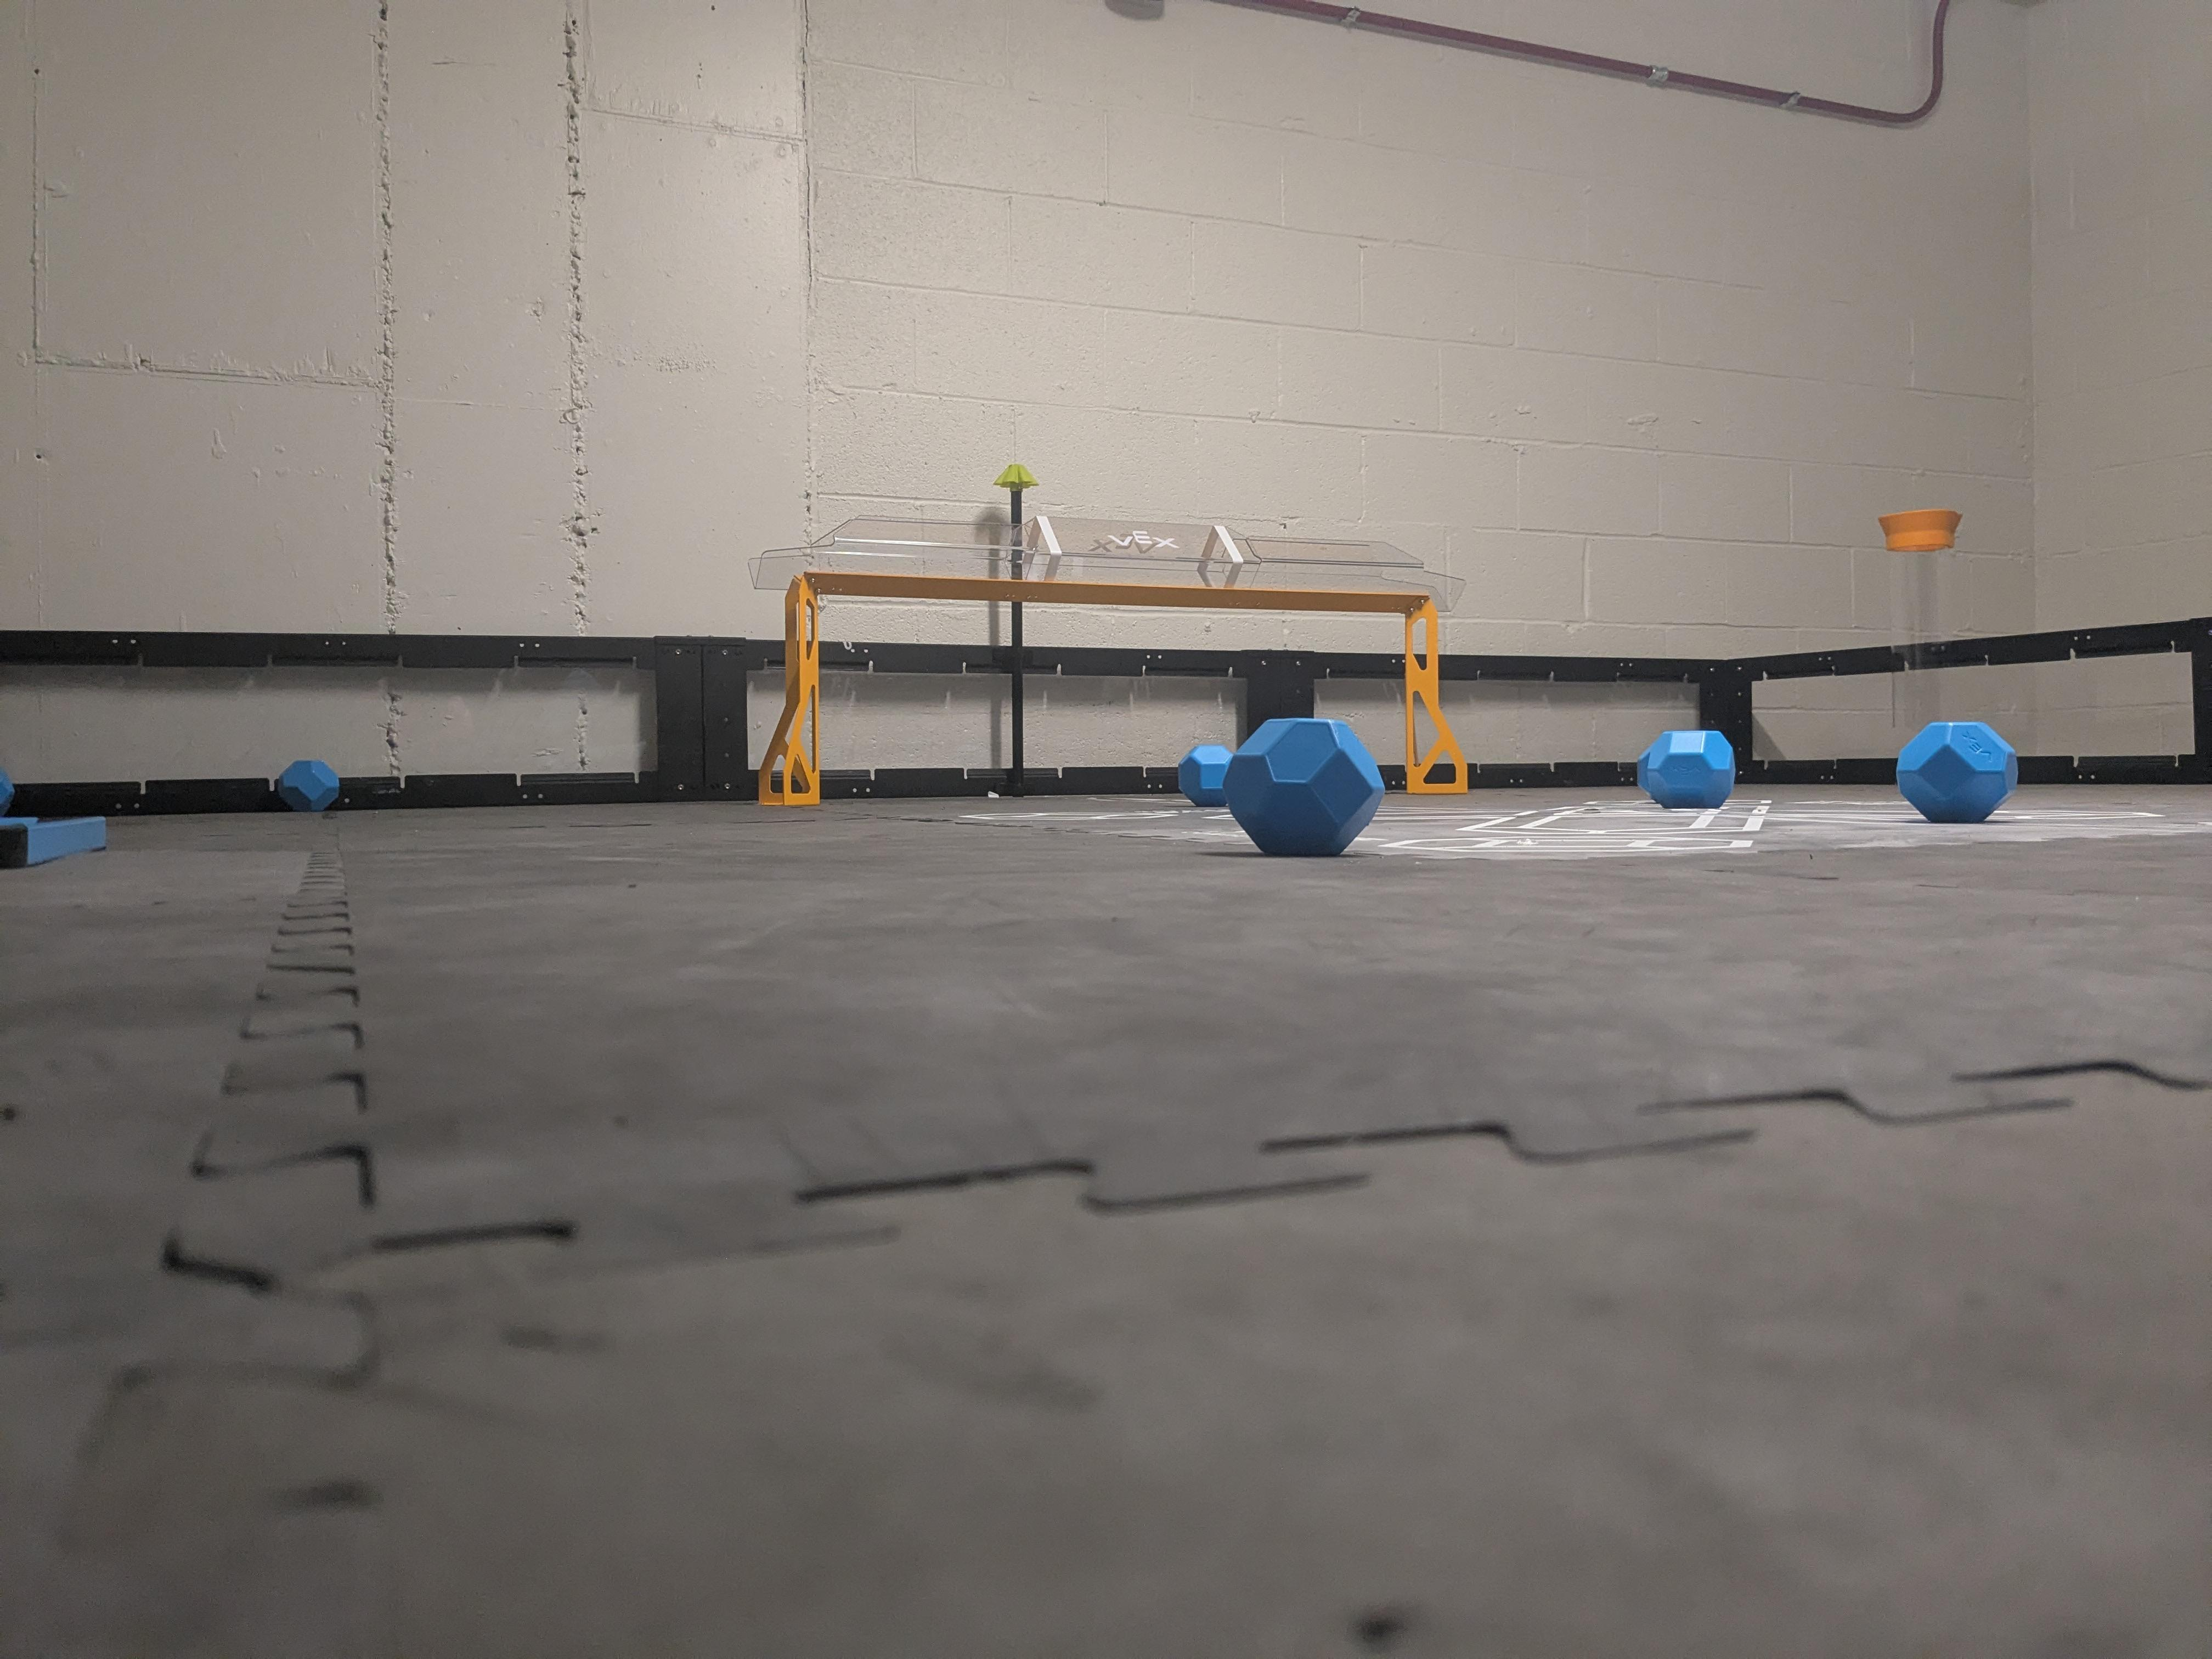Vex-Pieces-BLUE: (1181, 718, 1378, 854), (1897, 720, 2013, 819), (1639, 730, 1738, 809), (9, 821, 106, 868), (275, 762, 340, 810)
